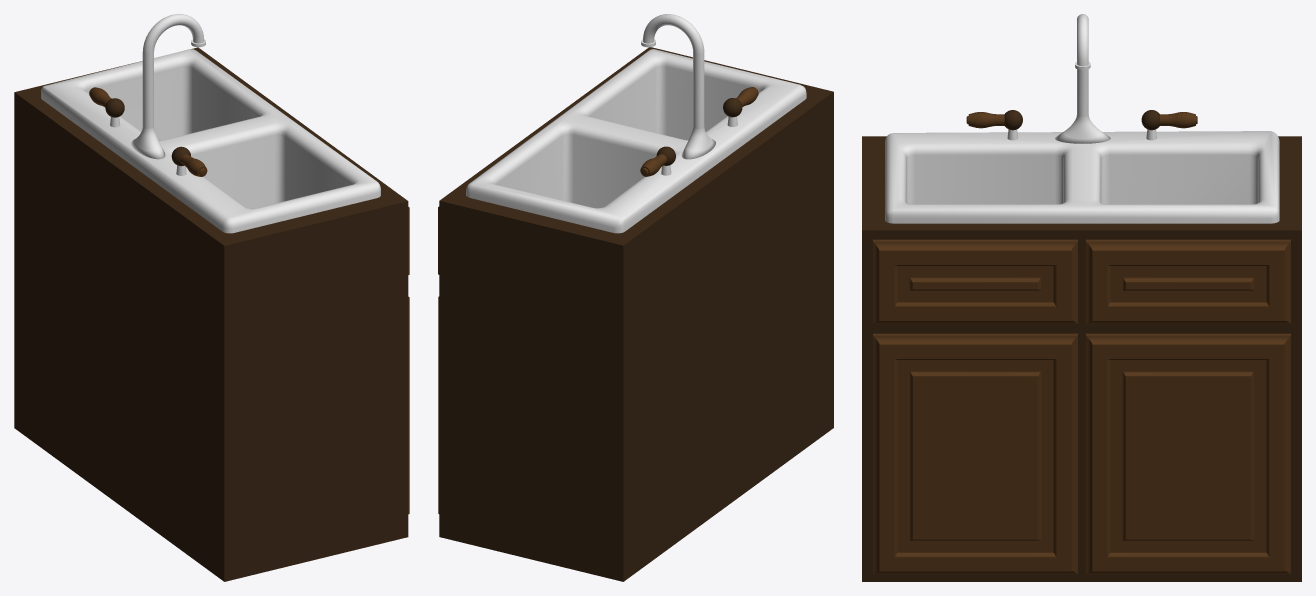
Rendered from Sink.glb.
3 renders of one model, left to right at view 1: azimuth 30°, elevation 25°; view 2: azimuth 150°, elevation 25°; view 3: azimuth 270°, elevation 25°, orthographic. The views are drawn at different scales.
Parts seen in each view (by area): view 1: sink_cabinet, sink, faucet, faucet_holder; view 2: sink_cabinet, sink, faucet, faucet_holder; view 3: sink_cabinet, left_sink_cabinet_door, right_sink_cabinet_door, sink, faucet, faucet_holder.
Part boxes in pixels (x1=…): sink_cabinet: x1=14, y1=47, x2=409, y2=581; sink: x1=41, y1=49, x2=380, y2=233; faucet: x1=142, y1=14, x2=205, y2=128; faucet_holder: x1=131, y1=127, x2=165, y2=159; sink_cabinet: x1=438, y1=47, x2=833, y2=581; sink: x1=466, y1=49, x2=806, y2=233; faucet: x1=641, y1=14, x2=704, y2=128; faucet_holder: x1=681, y1=127, x2=715, y2=159; sink_cabinet: x1=862, y1=136, x2=1301, y2=581; left_sink_cabinet_door: x1=873, y1=333, x2=1077, y2=574; right_sink_cabinet_door: x1=1086, y1=333, x2=1290, y2=574; sink: x1=885, y1=131, x2=1279, y2=223; faucet: x1=1075, y1=14, x2=1090, y2=116; faucet_holder: x1=1055, y1=115, x2=1110, y2=143.
Bounding box in the file's own units: 3.23 × 7.61 × 6.09.
